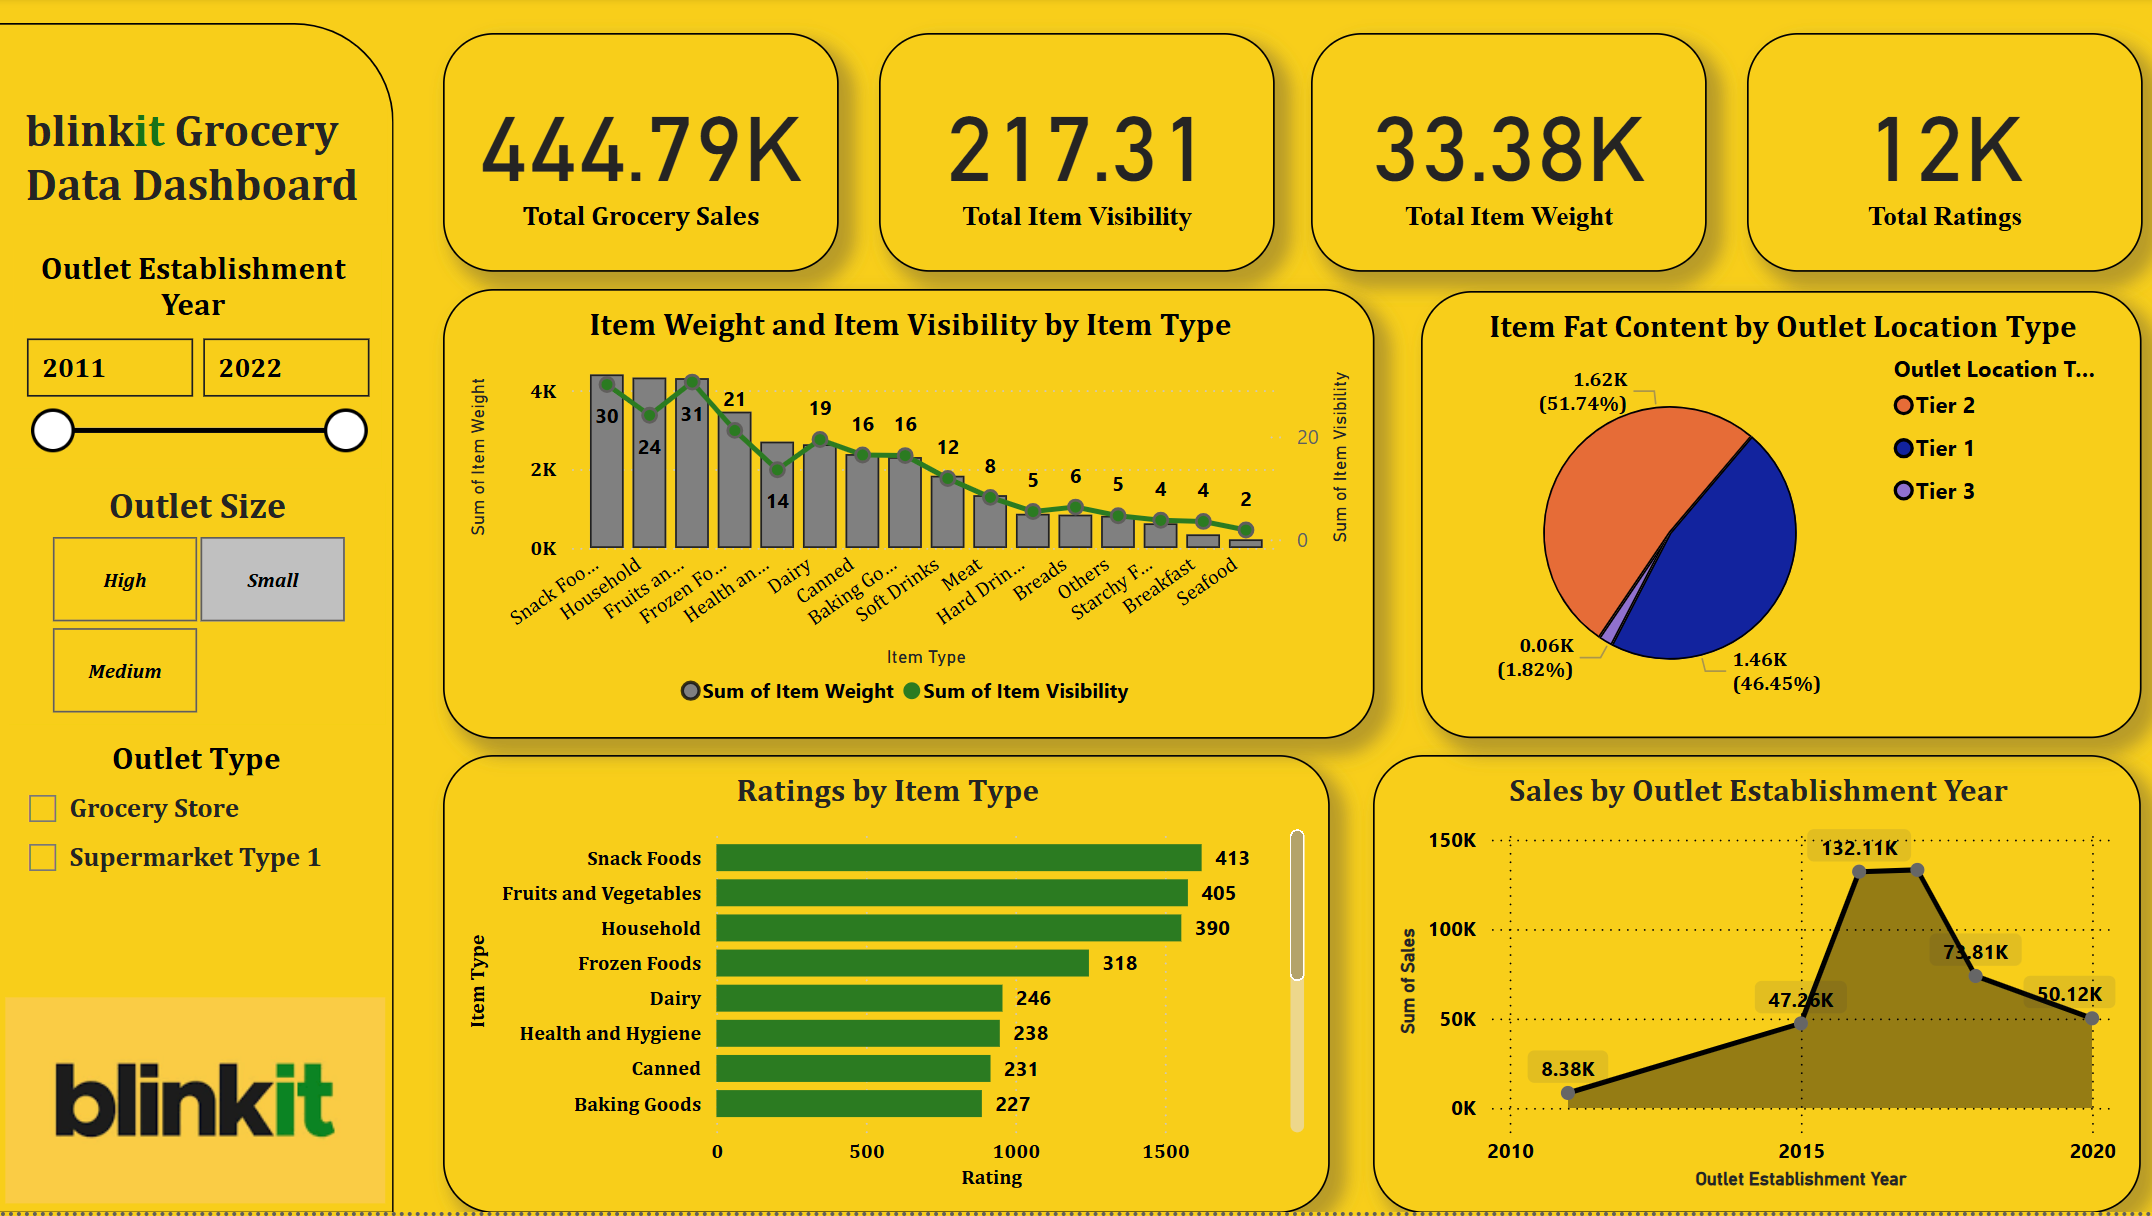

What the dashboard file says about the page in this screenshot:
{"tool":"powerbi","page":{"name":"BlinkIt_1","canvas":[1280,720],"ordinal":0},"visuals":[{"type":"shape","box":[0,15.9,235.1,705.4],"z":0},{"type":"textbox","box":[11.5,58.6,219.3,76.5],"z":1000},{"type":"slicer","title":"Outlet Size","fields":{"Values":["BlinkIT Grocery Data.Outlet Size"]},"box":[7.6,288.1,223.1,142.8],"z":2000},{"type":"image","box":[0,587.8,235.1,132.1],"z":3000},{"type":"slicer","title":"Outlet Establishment Year","fields":{"Values":["BlinkIT Grocery Data.Outlet Establishment Year"]},"box":[5.1,149.2,223.1,130],"z":4000},{"type":"slicer","title":"Outlet Type","fields":{"Values":["BlinkIT Grocery Data.Outlet Type"]},"box":[6.4,439.8,224.4,147.9],"z":5000},{"type":"card","fields":{"Values":["Sum(BlinkIT Grocery Data.Item Visibility)"]},"box":[522.7,21.7,234.6,141.5],"z":6000},{"type":"card","fields":{"Values":["Sum(BlinkIT Grocery Data.Item Weight)"]},"box":[779,21.7,234.6,141.5],"z":7000},{"type":"card","fields":{"Values":["Sum(BlinkIT Grocery Data.Sales)"]},"box":[263.9,21.7,234.6,141.5],"z":8000},{"type":"card","fields":{"Values":["Sum(BlinkIT Grocery Data.Rating)"]},"box":[1036.5,21.7,234.6,141.5],"z":9000},{"type":"stackedAreaChart","title":"Sales by Outlet Establishment Year","fields":{"Y":["Sum(BlinkIT Grocery Data.Sales)"],"Category":["BlinkIT Grocery Data.Outlet Establishment Year"]},"box":[815.9,448.8,455.1,271.6],"z":10000},{"type":"barChart","title":"Ratings by Item Type","fields":{"Y":["Sum(BlinkIT Grocery Data.Rating)"],"Category":["BlinkIT Grocery Data.Item Type"]},"box":[263.9,448.8,525.3,271.6],"z":11000},{"type":"pieChart","title":" Item Fat Content by Outlet Location Type","fields":{"Y":["CountNonNull(BlinkIT Grocery Data.Item Fat Content)"],"Category":["BlinkIT Grocery Data.Outlet Location Type"]},"box":[844,174.7,427.1,265.2],"z":12000},{"type":"lineClusteredColumnComboChart","title":"Item Weight and Item Visibility by Item Type","fields":{"Y":["Sum(BlinkIT Grocery Data.Item Weight)"],"Y2":["Sum(BlinkIT Grocery Data.Item Visibility)"],"Category":["BlinkIT Grocery Data.Item Type"]},"box":[263.9,173.4,552,266.5],"z":13000}]}

Visuals, with their boxes in screenshot pixels (x1, y1, x2, y2), scaled from the page's 1280x720 canvas onto the 2152x1216 screenshot:
shape: crop(0, 27, 395, 1215)
textbox: crop(19, 99, 388, 228)
"Outlet Size" slicer: crop(13, 487, 388, 728)
image: crop(0, 993, 395, 1215)
"Outlet Establishment Year" slicer: crop(9, 252, 384, 472)
"Outlet Type" slicer: crop(11, 743, 388, 993)
card - Sum(BlinkIT Grocery Data.Item Visibility): crop(879, 37, 1273, 276)
card - Sum(BlinkIT Grocery Data.Item Weight): crop(1310, 37, 1704, 276)
card - Sum(BlinkIT Grocery Data.Sales): crop(444, 37, 838, 276)
card - Sum(BlinkIT Grocery Data.Rating): crop(1743, 37, 2137, 276)
"Sales by Outlet Establishment Year" stackedAreaChart: crop(1372, 758, 2137, 1215)
"Ratings by Item Type" barChart: crop(444, 758, 1327, 1215)
" Item Fat Content by Outlet Location Type" pieChart: crop(1419, 295, 2137, 743)
"Item Weight and Item Visibility by Item Type" lineClusteredColumnComboChart: crop(444, 293, 1372, 743)
